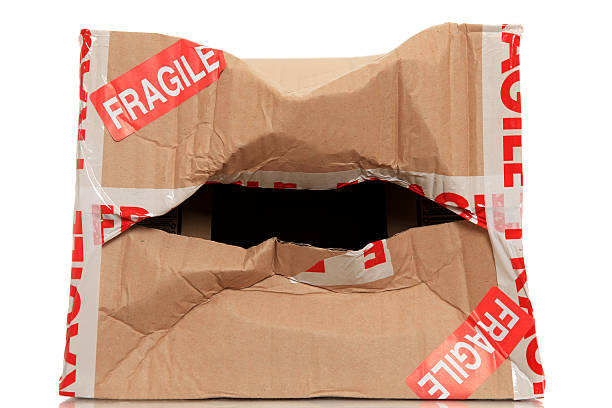damaged package: (151, 175, 474, 251), (178, 32, 424, 97)
